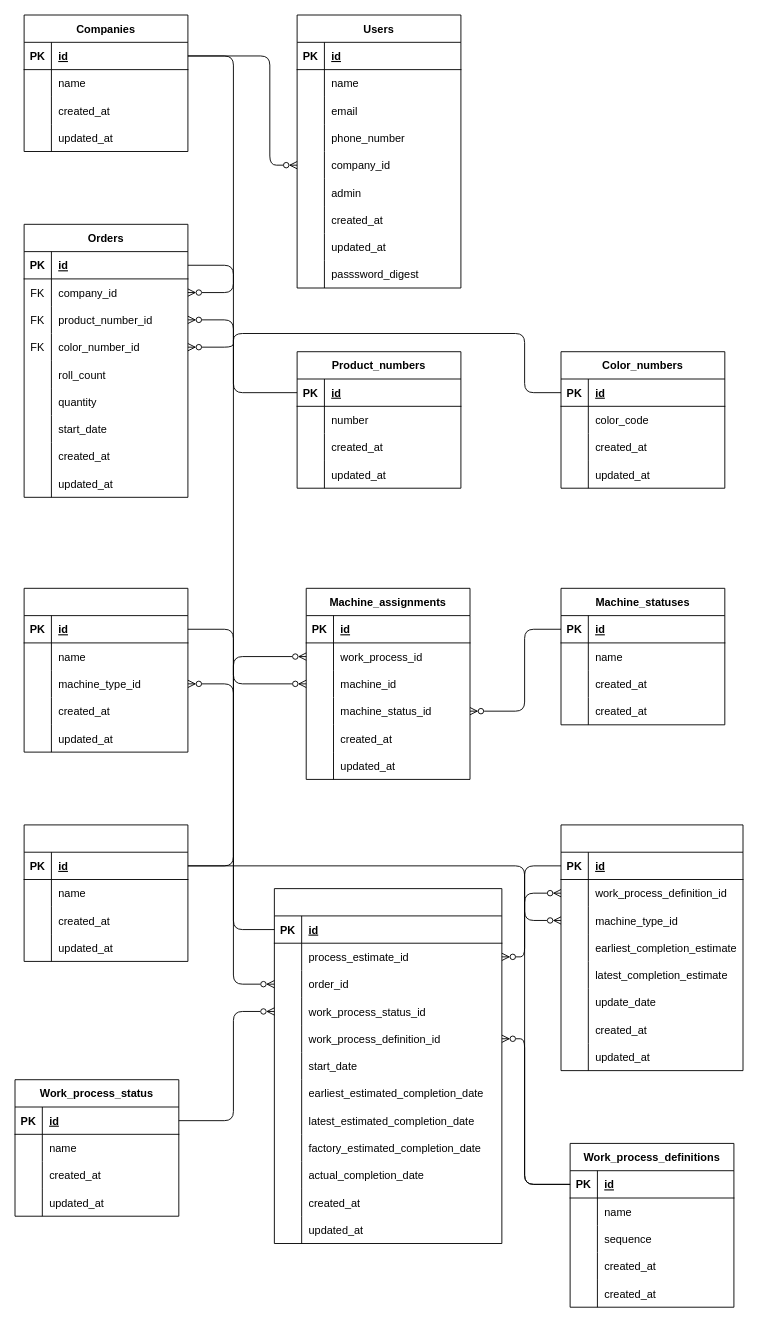
Some shapes in this 758 by 1322 pixel diagram are drawn without their labels. Each missing label, with the box of its shape:
Machine_types: (23, 824, 188, 961)
Machines: (23, 587, 188, 752)
Process_estimates: (560, 824, 743, 1071)
Work_processes: (273, 888, 502, 1244)
